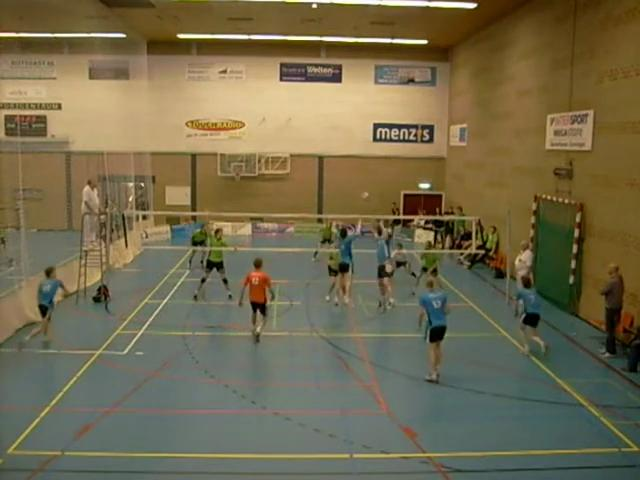Attack: (325, 213, 364, 305)
Player: (25, 267, 69, 347), (239, 258, 274, 342), (419, 278, 447, 382), (193, 228, 232, 300), (515, 276, 546, 353), (412, 241, 438, 294), (188, 223, 209, 268), (392, 242, 416, 277), (313, 220, 333, 260), (326, 250, 339, 301)
Set: (366, 218, 400, 314)
ball: (360, 190, 370, 201)
